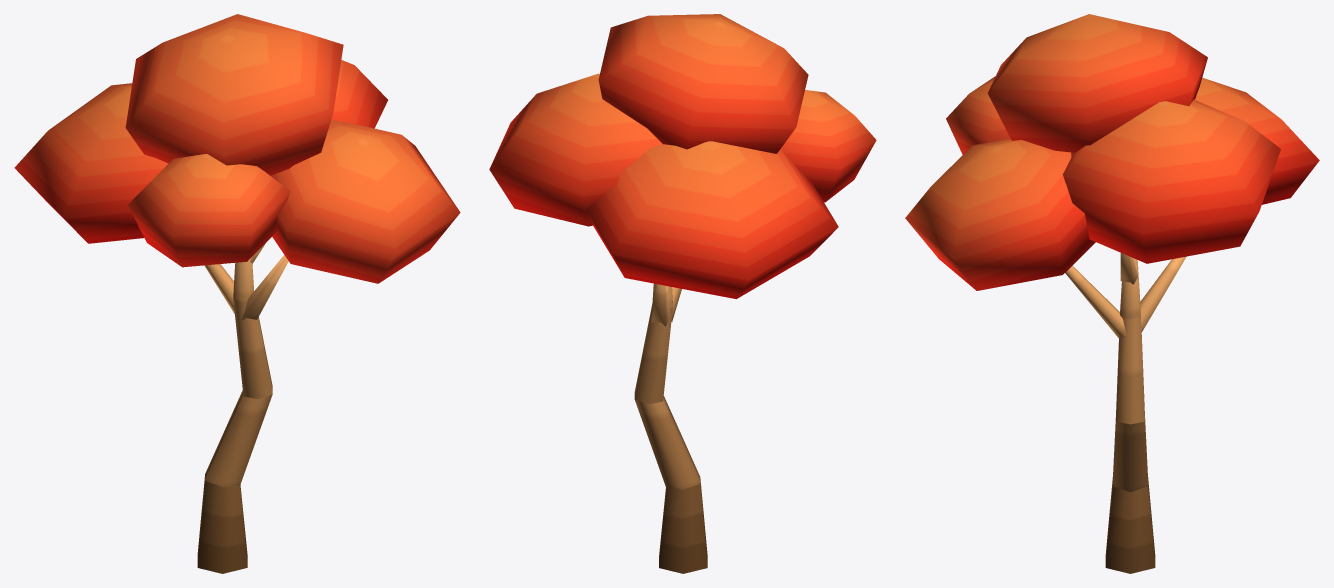
Rendered from tree_004.fbx.
3 renders of one model, left to right at view 1: azimuth 30°, elevation 25°; view 2: azimuth 150°, elevation 25°; view 3: azimuth 270°, elevation 25°, orthographic. The views are drawn at different scales.
Visible parts, largest first — view 1: tree.004; view 2: tree.004; view 3: tree.004.
Part boxes in pixels (<box>): tree.004: <box>14,14,460,573</box>; tree.004: <box>489,14,876,573</box>; tree.004: <box>905,14,1319,573</box>.
Bounding box in the file's own units: 33.19 × 52.08 × 36.28.
